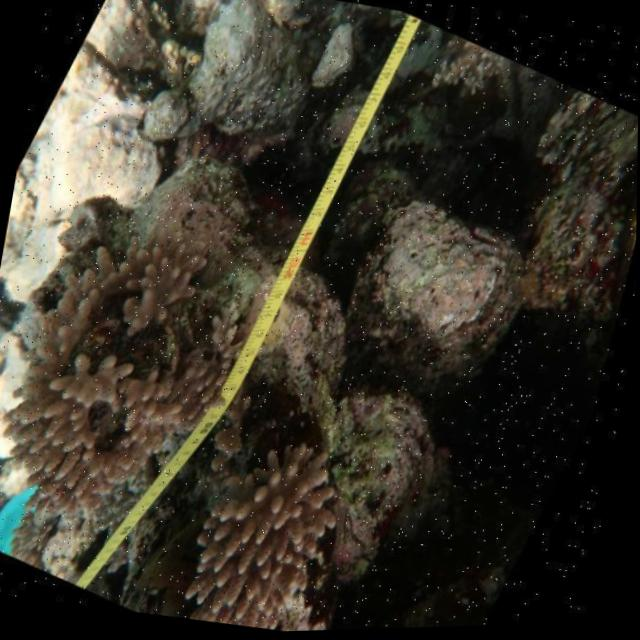Healthy Coral: (0, 172, 286, 553), (167, 400, 404, 636)
